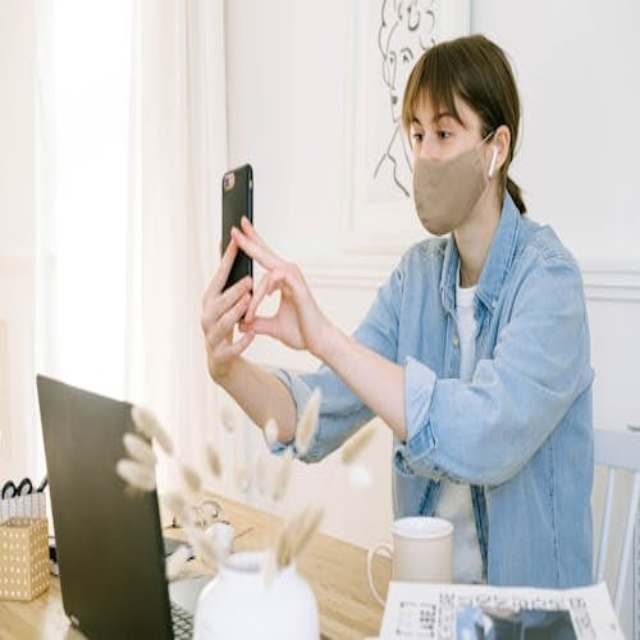Mascara: (411, 130, 494, 234)
Sin_gafas: (408, 102, 474, 150)
Sin_guantes: (233, 211, 326, 369), (200, 228, 272, 384)
